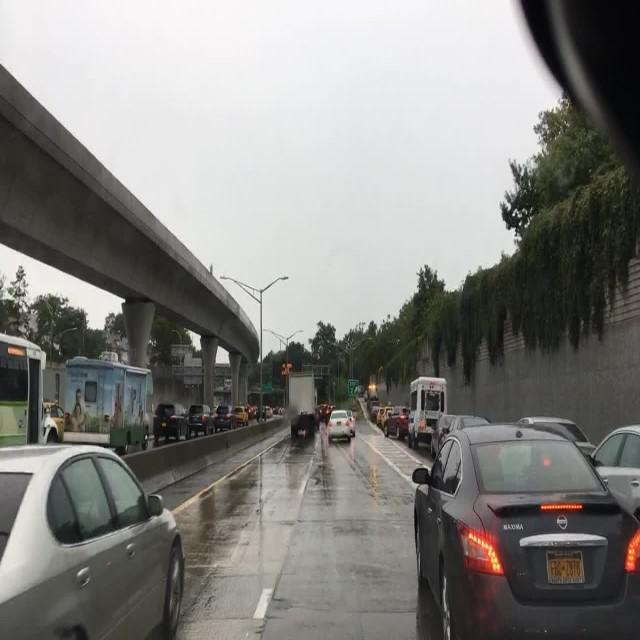normal: (414, 425, 640, 640), (0, 443, 184, 640), (63, 358, 159, 455), (0, 331, 48, 445), (592, 422, 640, 515), (516, 416, 596, 461), (407, 374, 448, 447), (426, 413, 490, 458), (187, 404, 219, 437), (327, 409, 357, 441), (383, 409, 406, 438), (394, 408, 410, 440), (228, 405, 249, 428)
